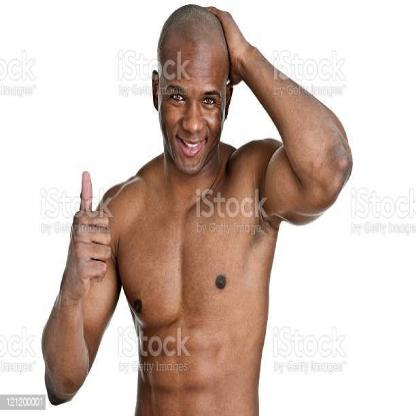Thumbs-Up: (59, 166, 122, 293)
